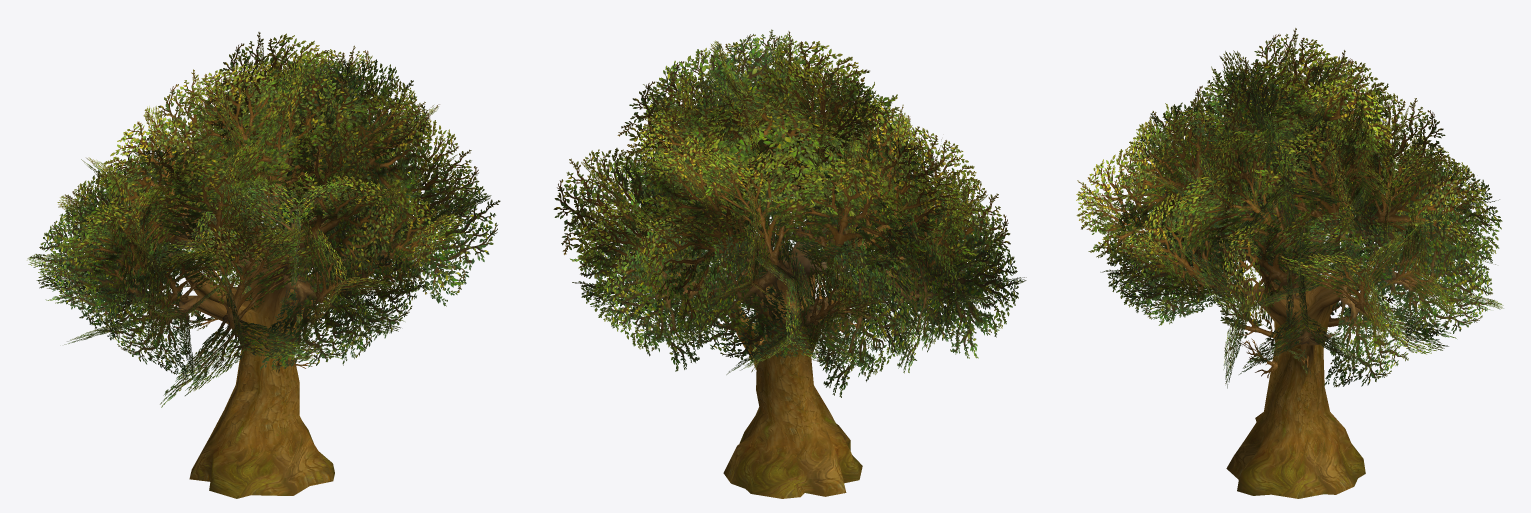
File: arbol2.obj
The picture shows the model from 3 angles, left to right: view 1: azimuth 30°, elevation 25°; view 2: azimuth 150°, elevation 25°; view 3: azimuth 270°, elevation 25°; orthographic projection. The views are drawn at different scales.
Visible parts, largest first — view 1: arbol5:Geoset2; view 2: arbol5:Geoset2; view 3: arbol5:Geoset2.
Part boxes in pixels (x1,y1,x2,y2): arbol5:Geoset2: [27, 32, 500, 498]; arbol5:Geoset2: [553, 29, 1026, 498]; arbol5:Geoset2: [1076, 28, 1503, 498].
Size of the model in its own units: 32.97 by 32.01 by 29.31.
2 materials, 2 textured.
